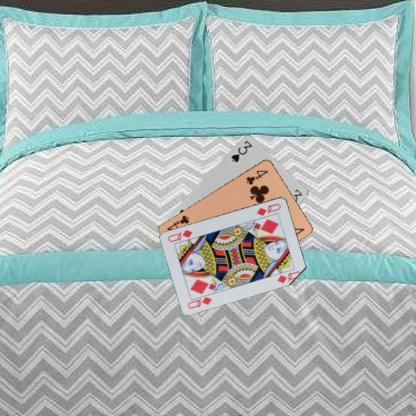3s: (229, 138, 253, 164)
4c: (243, 168, 270, 186)
Qd: (185, 290, 213, 310), (254, 201, 282, 217)
